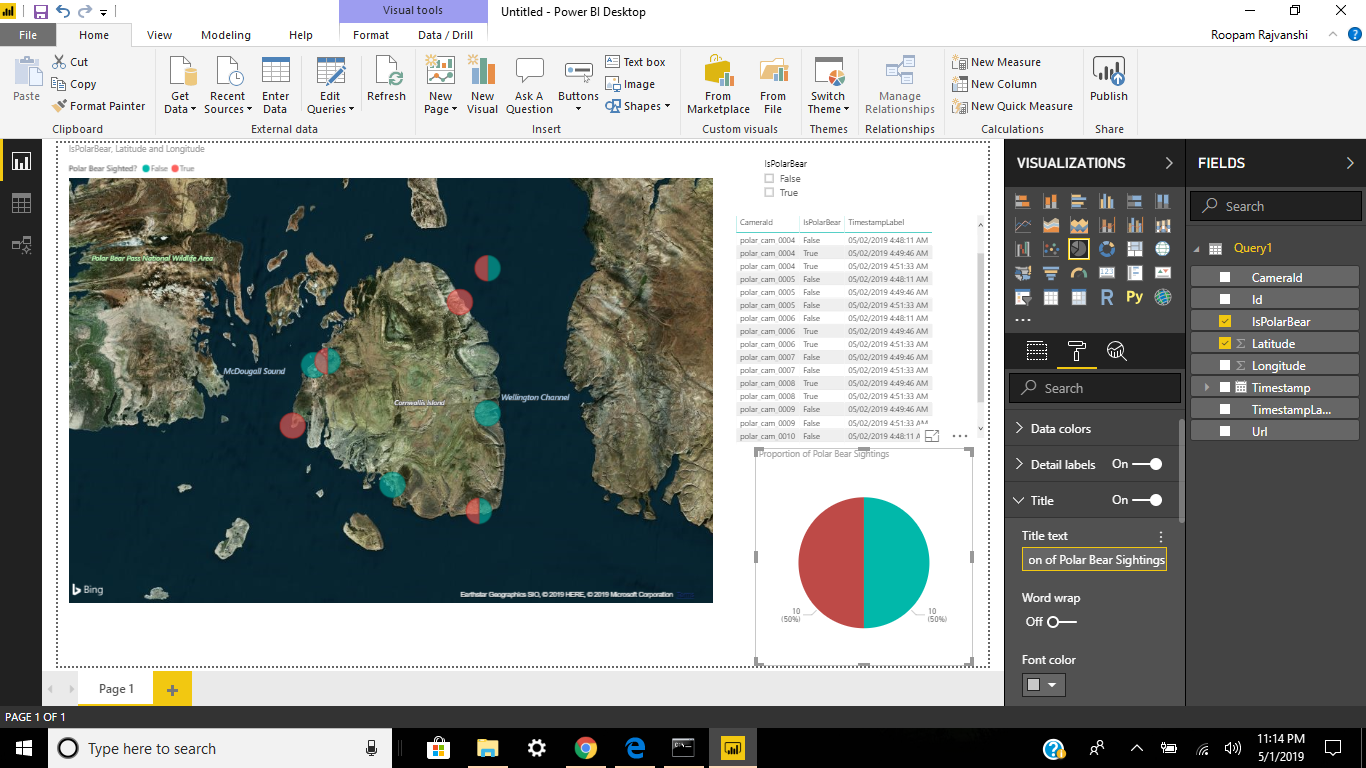

Layout of this report page (visuals, bound fields, positions):
{"tool":"powerbi","page":{"name":"Polar Bear Activity","canvas":[1280,720],"ordinal":0},"visuals":[{"type":"map","fields":{"X":["Query1.Longitude"],"Y":["Query1.Latitude"],"Series":["Query1.IsPolarBear"]},"box":[9.6,0,896.2,637.4],"z":1},{"type":"tableEx","title":"Camera Activity","fields":{"Values":["Query1.CameraId","Query1.IsPolarBear","Query1.TimestampLabel"]},"box":[927.9,95,352.4,324.9],"z":2},{"type":"pieChart","title":"Proportion of Polar Bear Sightings","fields":{"Category":["Query1.IsPolarBear"],"Y":["CountNonNull(Query1.Latitude)"]},"box":[959.5,419.9,300.1,300.1],"z":3},{"type":"slicer","title":"Show Sightings that are:","fields":{"Values":["Query1.IsPolarBear"]},"box":[959.5,15.1,168,79.8],"z":4}]}

Visuals, with their boxes on the page's 1280x720 design canvas (x1, y1, x2, y2). These are canvas units, not pixel positions in the 1366x768 screenshot, which may show the page scaled, cropped or inside an application window:
map - Query1.Longitude x Query1.Latitude: bbox(10, 0, 906, 637)
"Camera Activity" tableEx: bbox(928, 95, 1280, 420)
"Proportion of Polar Bear Sightings" pieChart: bbox(960, 420, 1260, 720)
"Show Sightings that are:" slicer: bbox(960, 15, 1128, 95)
